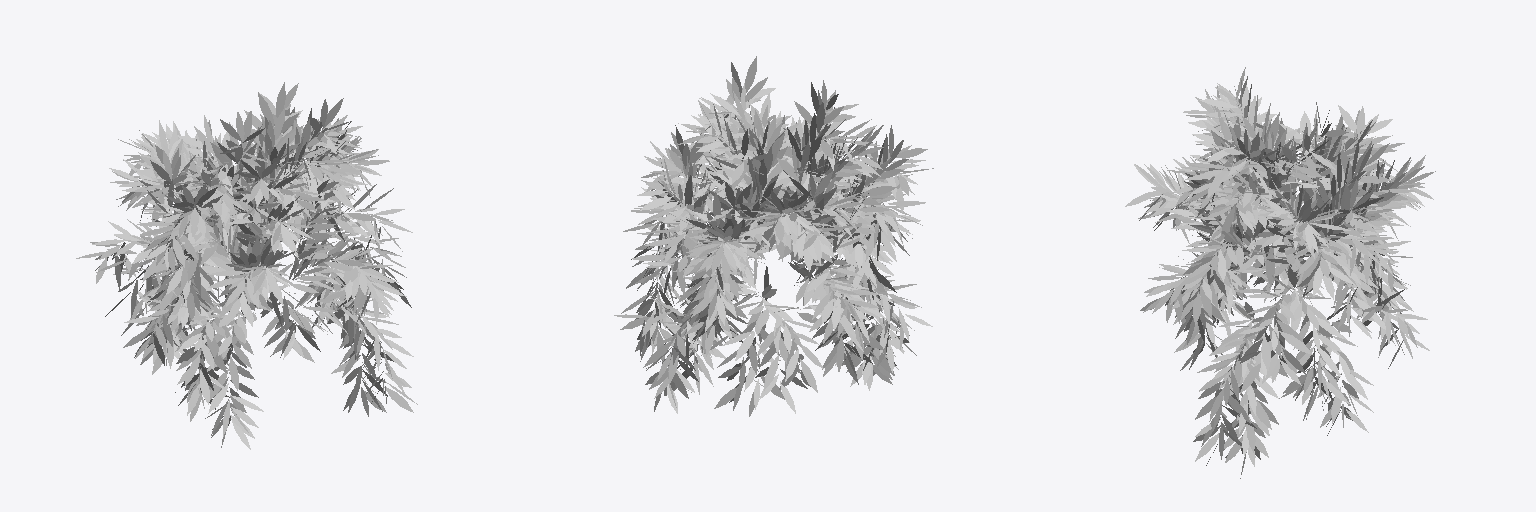
File: bush_leaves.obj
The picture shows the model from 3 angles: view 1: azimuth 30°, elevation 25°; view 2: azimuth 150°, elevation 25°; view 3: azimuth 270°, elevation 25°; orthographic projection.
Parts seen in each view (by area): view 1: leaves_leaves.001; view 2: leaves_leaves.001; view 3: leaves_leaves.001.
Boxes of the visible parts, box(x1,y1,x2,y2) form: leaves_leaves.001: box(76, 82, 417, 449); leaves_leaves.001: box(614, 56, 933, 416); leaves_leaves.001: box(1125, 67, 1435, 478).
Bounding box in the file's own units: 1.61 × 1.78 × 1.48.